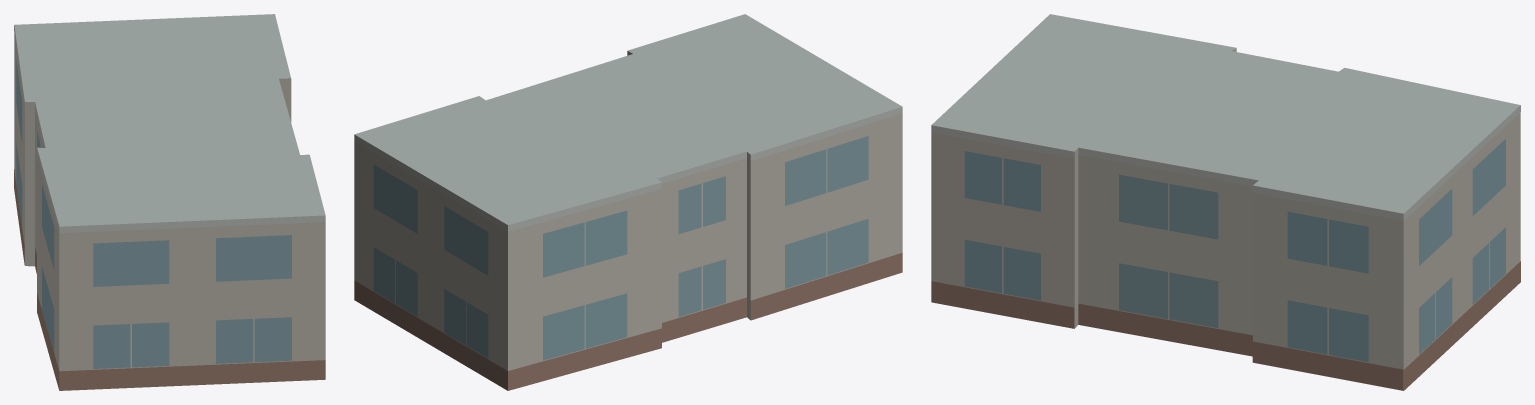
The model's file is survey-upis-32530345.glb.
3 views of the same model, side by side, from view 1: azimuth 30°, elevation 25°; view 2: azimuth 150°, elevation 25°; view 3: azimuth 270°, elevation 25° (orthographic). The views are drawn at different scales.
Parts seen in each view (by area): view 1: survey-upis-32530345.tmp; view 2: survey-upis-32530345.tmp; view 3: survey-upis-32530345.tmp.
Part boxes in pixels (x1,y1,x2,y2): survey-upis-32530345.tmp: (14,14,325,390); survey-upis-32530345.tmp: (354,14,902,390); survey-upis-32530345.tmp: (931,14,1520,390).
Bounding box in the file's own units: 14.76 × 6.1 × 18.41.
